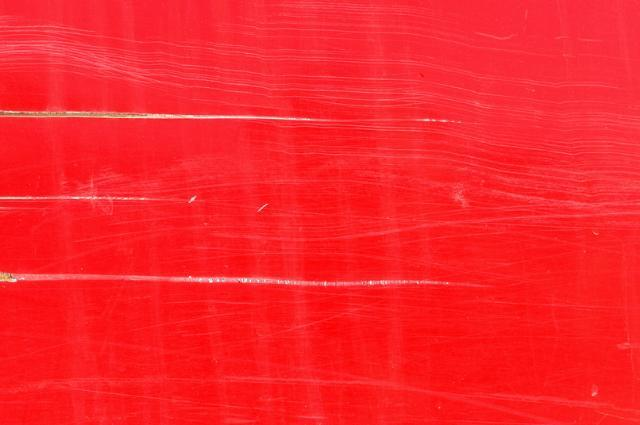Door: (0, 19, 624, 374)
